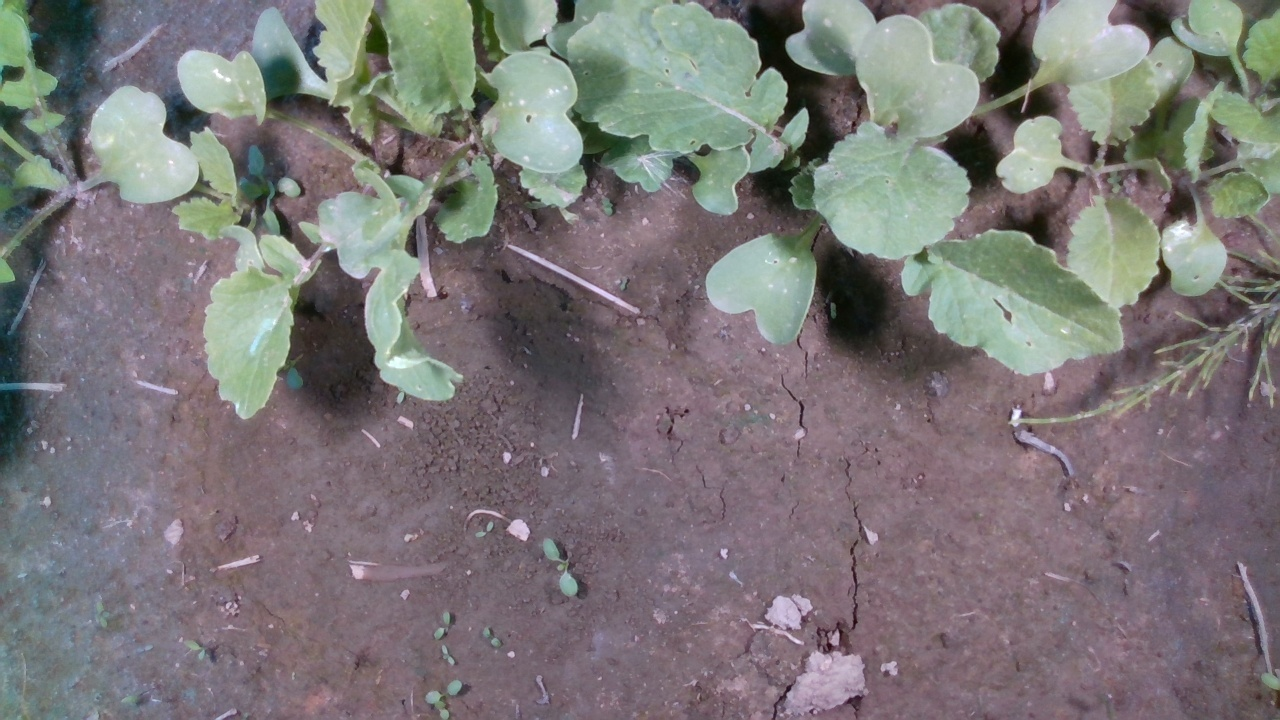weed: (541, 536, 578, 598), (180, 639, 210, 660), (92, 599, 109, 630), (434, 609, 452, 638), (481, 626, 502, 649), (440, 644, 456, 666), (474, 521, 493, 538), (601, 194, 614, 217)
